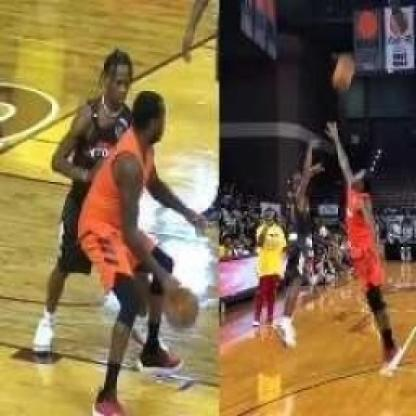basketball: (166, 289, 194, 327), (335, 62, 354, 86)
